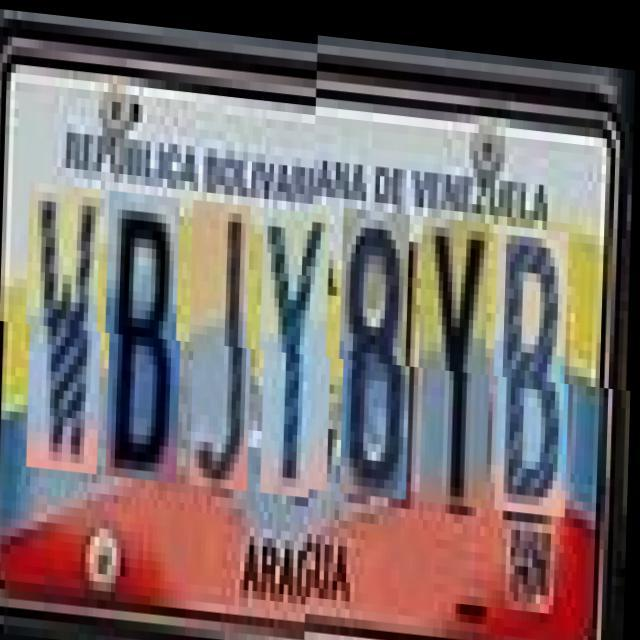8: (342, 209, 415, 499)
B: (108, 188, 186, 479), (497, 222, 574, 513)
J: (192, 195, 256, 486)
W: (29, 181, 106, 472)
Y: (263, 202, 336, 492), (422, 215, 494, 506)
